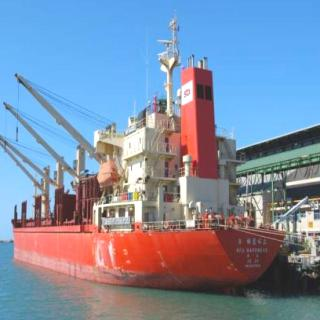Bulk Carrier: (3, 60, 291, 290)
